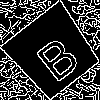B: (27, 27, 83, 84)
